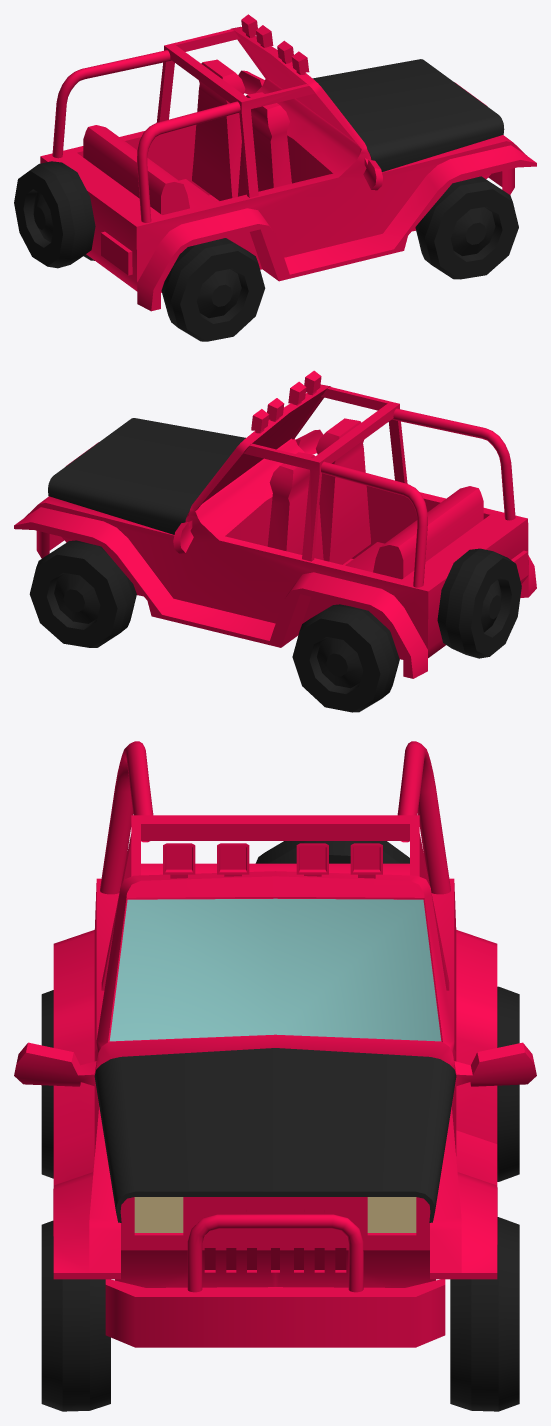
Rendered from car.glb.
3 views of the same model, one above another, from view 1: azimuth 30°, elevation 25°; view 2: azimuth 150°, elevation 25°; view 3: azimuth 270°, elevation 25° (orthographic). The views are drawn at different scales.
Visible parts, largest first — view 1: Body, Tyres, Bonnet, Tyres.001; view 2: Body, Tyres, Bonnet, Tyres.001; view 3: Body, Bonnet, Glass, Tyres, Head_lights, Tyres.001.
Boxes of the visible parts, box(x1,y1,x2,y2) form: Body: box(40, 14, 536, 311); Tyres: box(83, 176, 518, 341); Bonnet: box(313, 59, 504, 171); Tyres.001: box(14, 161, 95, 268); Body: box(14, 370, 536, 678); Tyres: box(29, 540, 399, 712); Bonnet: box(48, 418, 245, 534); Tyres.001: box(437, 548, 521, 658); Body: box(14, 741, 536, 1347); Bonnet: box(94, 1048, 456, 1222); Glass: box(109, 898, 441, 1041); Tyres: box(41, 986, 519, 1411); Head_lights: box(134, 1197, 416, 1232); Tyres.001: box(255, 841, 409, 863).
Bounding box in the file's own units: 2.8 × 1.48 × 1.62.
